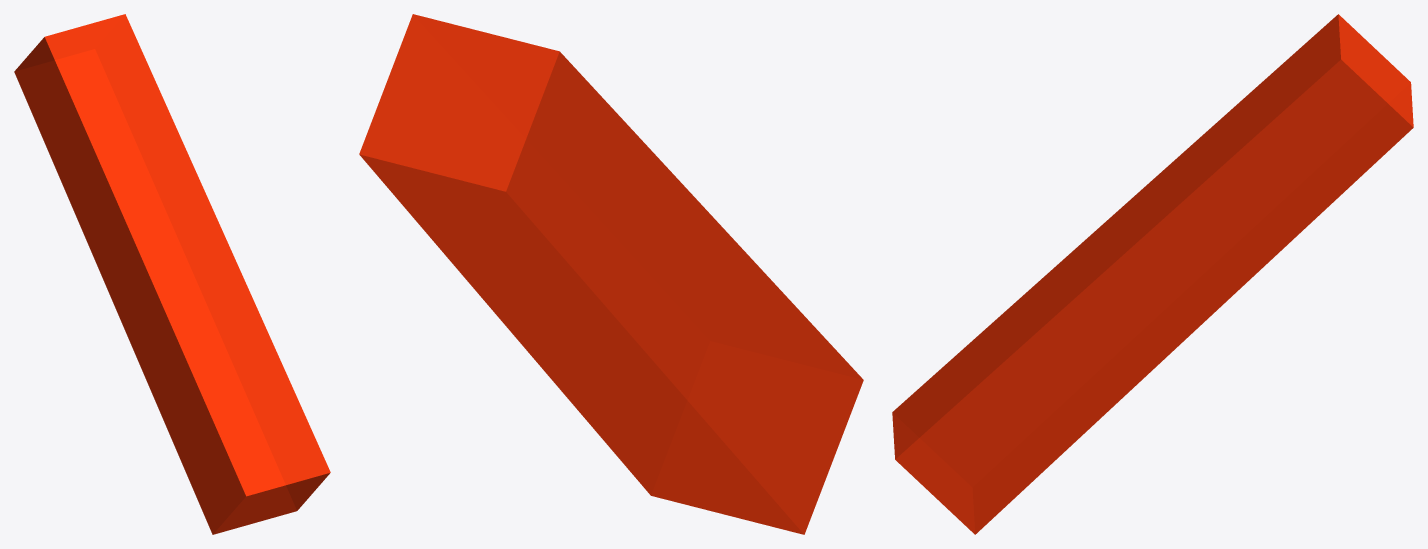
Rendered from Event_421115418_EBrechit_22.fbx.
3 views of the same model, side by side, from view 1: azimuth 30°, elevation 25°; view 2: azimuth 150°, elevation 25°; view 3: azimuth 270°, elevation 25° (orthographic). The views are drawn at different scales.
Visible parts, largest first — view 1: Model; view 2: Model; view 3: Model.
Part boxes in pixels (left/top/right/bottom): Model: left=14, top=14, right=330, bottom=534; Model: left=359, top=14, right=863, bottom=534; Model: left=892, top=14, right=1413, bottom=534.
Bounding box in the file's own units: 0.0733 × 0.2726 × 0.2757.
